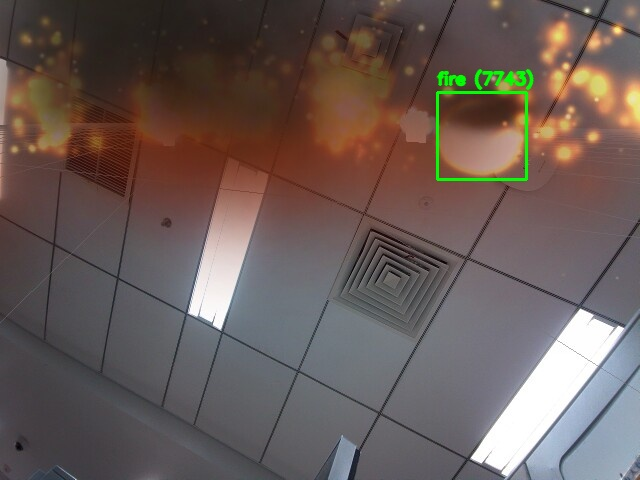fire: (437, 92, 526, 179)
